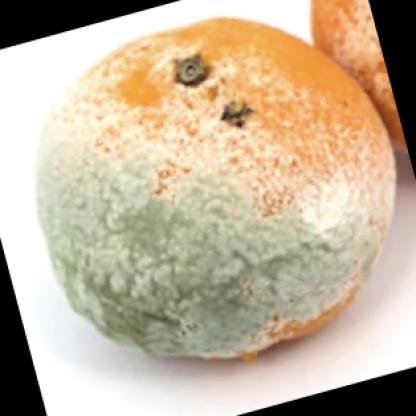rotten: (40, 19, 397, 360)
